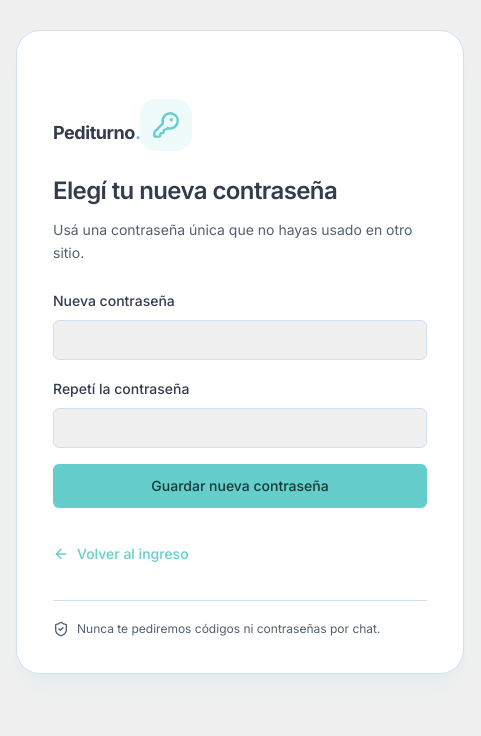
Test: email action page › shows a provider password policy rejection without leaking its message or losing the form
This screenshot has width=481, height=736.
Type "Only-Unit-Fixture-123!" into the password field labelled "Nueva contraseña" at (240, 340), box [53,320,427,360]
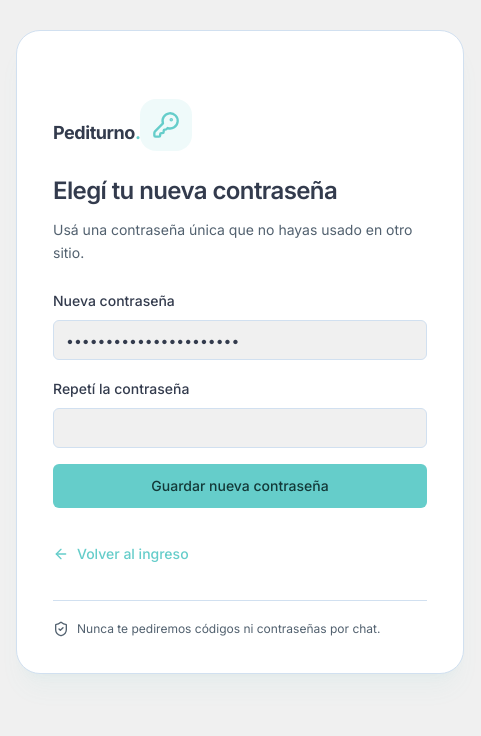
Type "Only-Unit-Fixture-123!" into the password field labelled "Repetí la contraseña" at (240, 428), box [53,408,427,448]
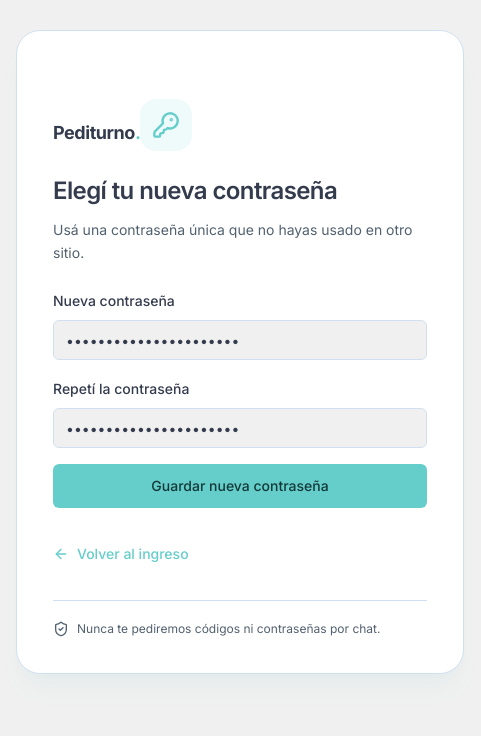
Click the button "Guardar nueva contraseña" at (240, 486), box [53,464,427,508]
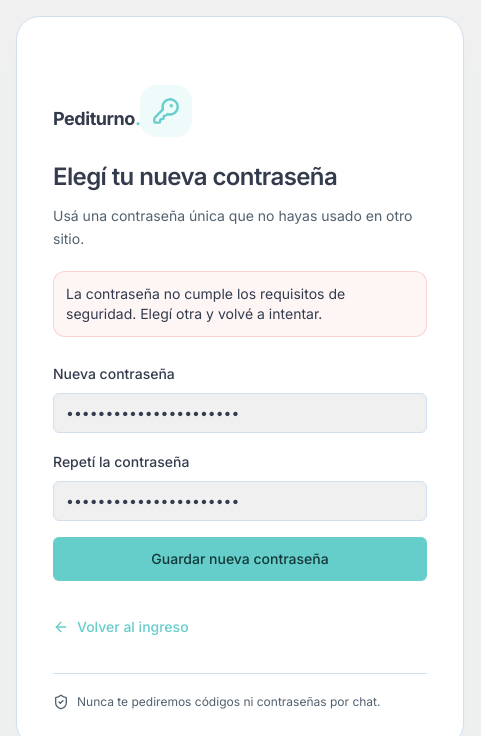
Check: the password field labelled "Nueva contraseña" is enabled, box [53,392,427,432]
Check: the message shows "no cumple los requisitos", box [66,284,345,322]
